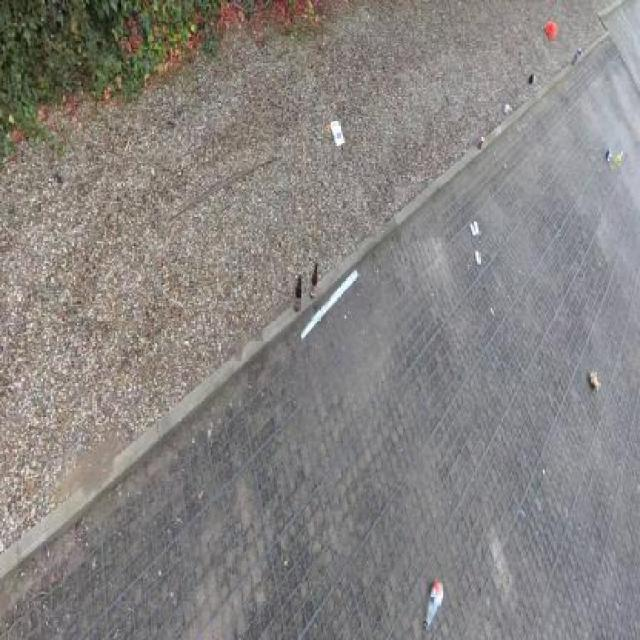Garbage: (300, 269, 358, 339), (423, 575, 445, 632), (330, 119, 345, 146), (611, 150, 623, 173), (588, 372, 601, 392), (545, 21, 558, 40), (295, 276, 301, 311), (570, 48, 580, 64), (469, 222, 477, 236), (477, 136, 485, 150), (475, 250, 481, 265), (529, 74, 537, 85), (473, 221, 480, 233), (605, 148, 611, 161), (504, 105, 512, 114), (542, 469, 545, 474)
